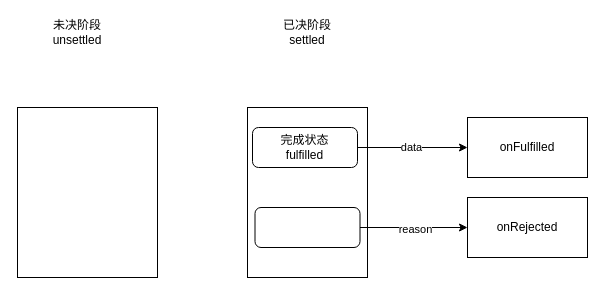
The diagram is 605 pixels wide and 295 high, and some of its shapes have lost their labels. The shapes that lost their labels are listed below. From the top down, each one's centre as x and y in pixels, then its label:
the point at 87,192: 挂起状态 pending
the point at 307,227: 失败状态 rejected
